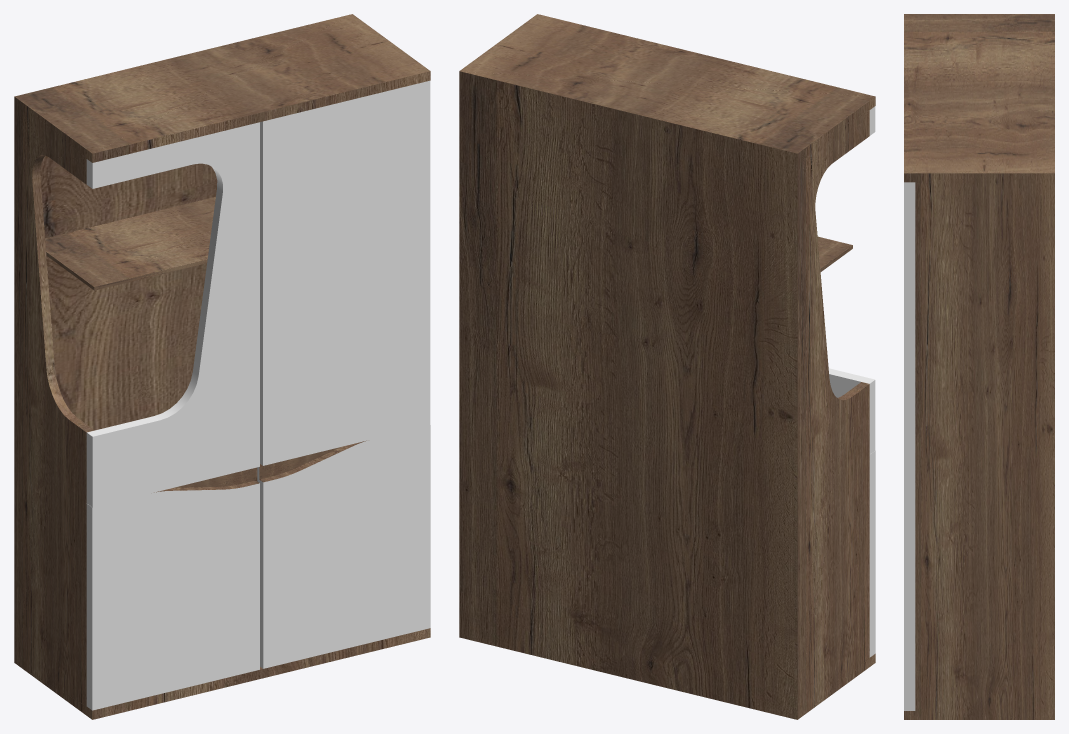
Rendered from dresser.gltf.
3 renders of one model, left to right at view 1: azimuth 30°, elevation 25°; view 2: azimuth 150°, elevation 25°; view 3: azimuth 270°, elevation 25°, orthographic. The views are drawn at different scales.
Parts seen in each view (by area): view 1: Box001, Box004, Box002, Box003, Box005, Box006; view 2: Box001, Box002, Box005, Box006; view 3: Box001, Box004, Box003.
Boxes of the visible parts, x1=… form: Box001: x1=14, y1=14, x2=430, y2=719; Box004: x1=260, y1=80, x2=430, y2=465; Box002: x1=86, y1=468, x2=259, y2=710; Box003: x1=257, y1=425, x2=430, y2=668; Box005: x1=86, y1=122, x2=259, y2=507; Box006: x1=45, y1=197, x2=215, y2=290; Box001: x1=459, y1=14, x2=875, y2=719; Box002: x1=869, y1=450, x2=875, y2=657; Box005: x1=828, y1=106, x2=875, y2=454; Box006: x1=817, y1=236, x2=852, y2=271; Box001: x1=904, y1=14, x2=1054, y2=719; Box004: x1=904, y1=182, x2=915, y2=514; Box003: x1=904, y1=515, x2=915, y2=710.
Bounding box in the file's own units: 1 × 1.6 × 0.4.
2 materials, 1 textured.
